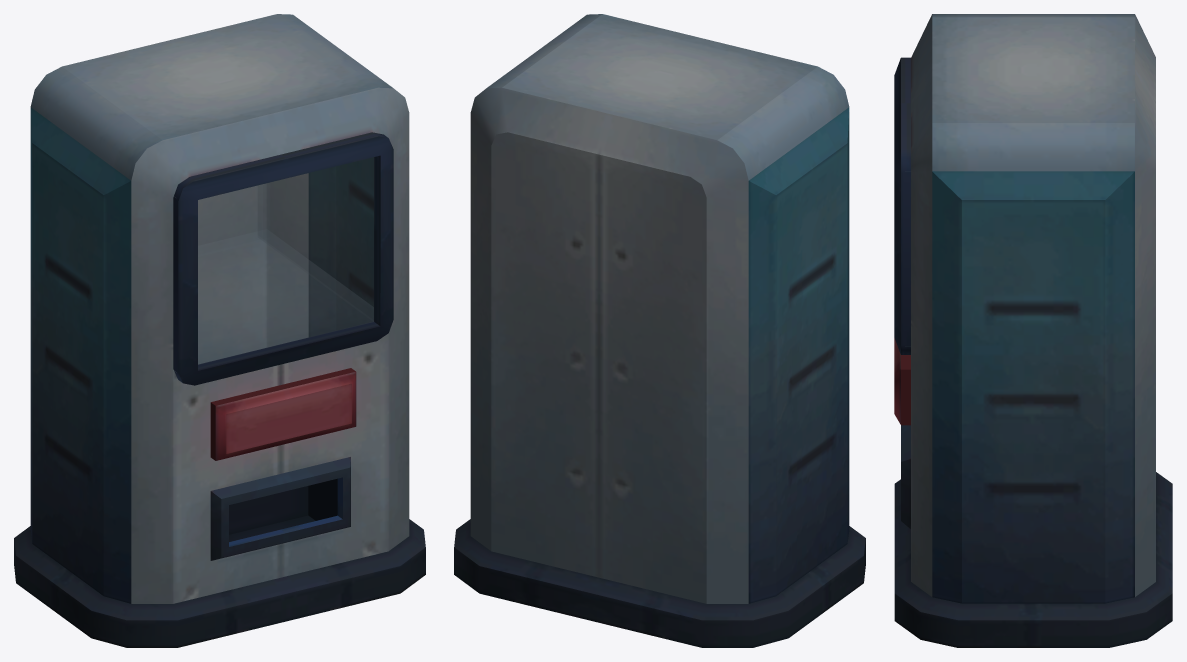
File: goldchal.glb
3 renders of one model, left to right at view 1: azimuth 30°, elevation 25°; view 2: azimuth 150°, elevation 25°; view 3: azimuth 270°, elevation 25°, orthographic.
Visible parts, largest first — view 1: goldchal; view 2: goldchal; view 3: goldchal.
Boxes of the visible parts, <box> form: goldchal: <box>14,14,425,647</box>; goldchal: <box>454,14,865,647</box>; goldchal: <box>894,14,1172,647</box>.
Size of what is drawn, in the model's own units: 5 by 7.08 by 3.6.
6 materials, 6 textured.
